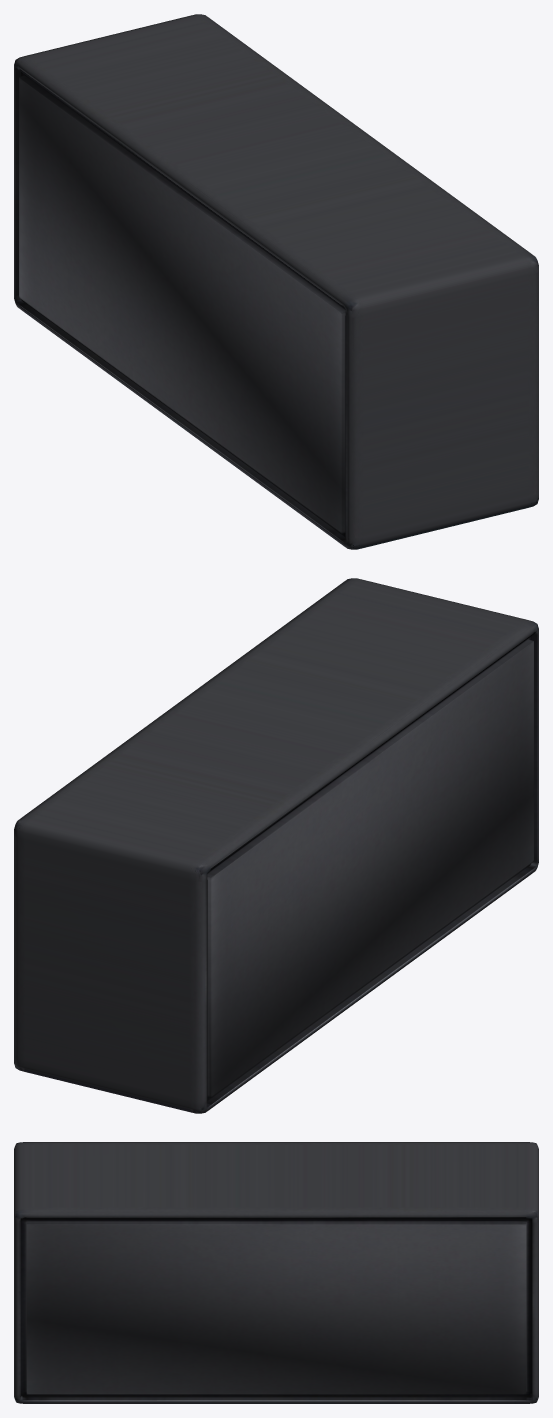
File: GunBody.fbx
The picture shows the model from 3 angles, top to bottom: view 1: azimuth 30°, elevation 25°; view 2: azimuth 150°, elevation 25°; view 3: azimuth 270°, elevation 25°; orthographic projection. The views are drawn at different scales.
Visible parts, largest first — view 1: tripo_node_4e085c50; view 2: tripo_node_4e085c50; view 3: tripo_node_4e085c50.
Boxes of the visible parts, x1=… form: tripo_node_4e085c50: x1=14, y1=14, x2=538, y2=549; tripo_node_4e085c50: x1=14, y1=578, x2=538, y2=1113; tripo_node_4e085c50: x1=14, y1=1142, x2=538, y2=1403.
Size of the model in its own units: 0.3271 by 0.4069 by 1.
